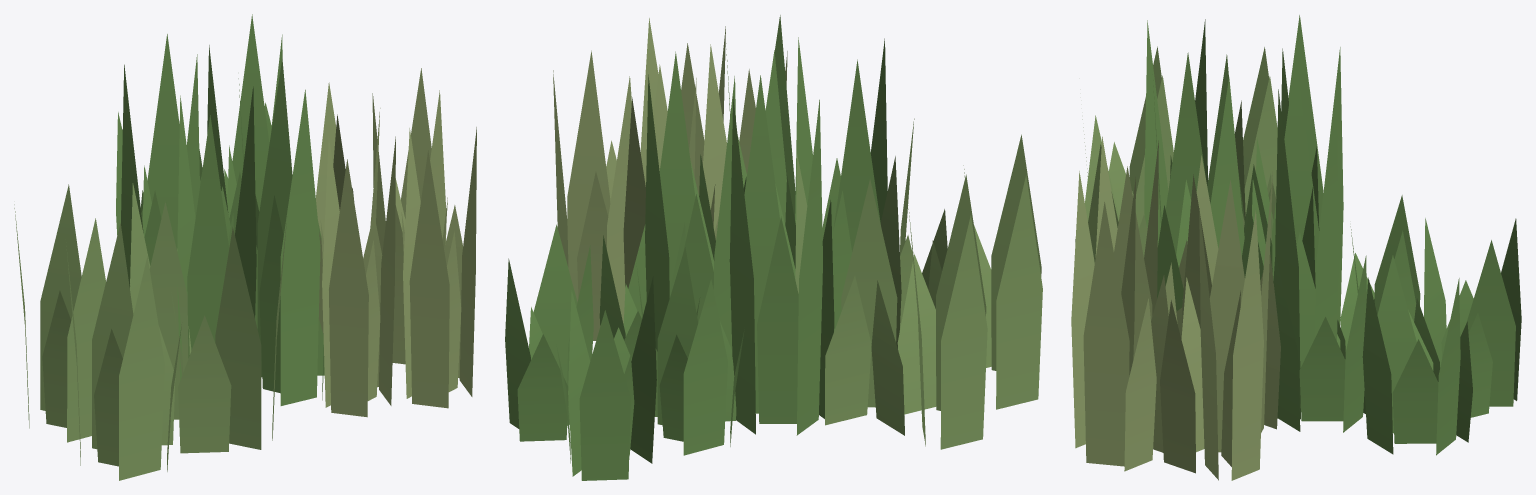
Rendered from veg_wetland_grass.glb.
3 renders of one model, left to right at view 1: azimuth 30°, elevation 25°; view 2: azimuth 150°, elevation 25°; view 3: azimuth 270°, elevation 25°, orthographic. The views are drawn at different scales.
Parts seen in each view (by area): view 1: clump_1, clump_0, clump_2, clump_3; view 2: clump_0, clump_1, clump_3, clump_2; view 3: clump_2, clump_3, clump_0, clump_1.
Boxes of the visible parts, <box> form: clump_1: <box>14,183,287,480</box>; clump_0: <box>121,14,324,405</box>; clump_2: <box>316,68,476,417</box>; clump_3: <box>116,102,271,249</box>; clump_0: <box>645,15,887,435</box>; clump_1: <box>795,118,1042,449</box>; clump_3: <box>505,222,744,480</box>; clump_2: <box>553,18,787,340</box>; clump_2: <box>1071,136,1280,480</box>; clump_3: <box>1273,195,1521,455</box>; clump_0: <box>1144,15,1343,419</box>; clump_1: <box>1075,46,1277,263</box>.
Size of the model in its own units: 0.6583 by 0.4845 by 0.6054.
